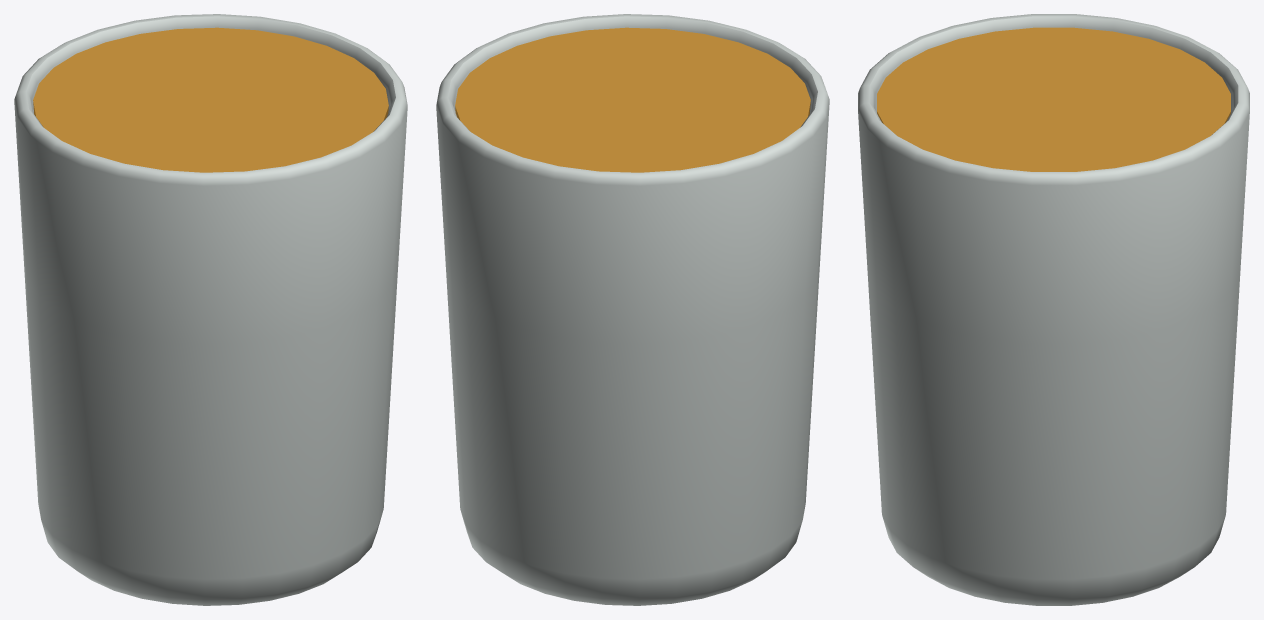
Rendered from container_tumbler_lod1.glb.
3 renders of one model, left to right at view 1: azimuth 30°, elevation 25°; view 2: azimuth 150°, elevation 25°; view 3: azimuth 270°, elevation 25°, orthographic.
Parts seen in each view (by area): view 1: Glass, Liquid; view 2: Glass, Liquid; view 3: Glass, Liquid.
Part boxes in pixels (<box>): Glass: <box>14,14,407,605</box>; Liquid: <box>33,27,388,172</box>; Glass: <box>436,14,829,605</box>; Liquid: <box>455,27,810,172</box>; Glass: <box>858,14,1249,605</box>; Liquid: <box>877,27,1230,171</box>.
Bounding box in the file's own units: 0.0765 × 0.0968 × 0.0765.
